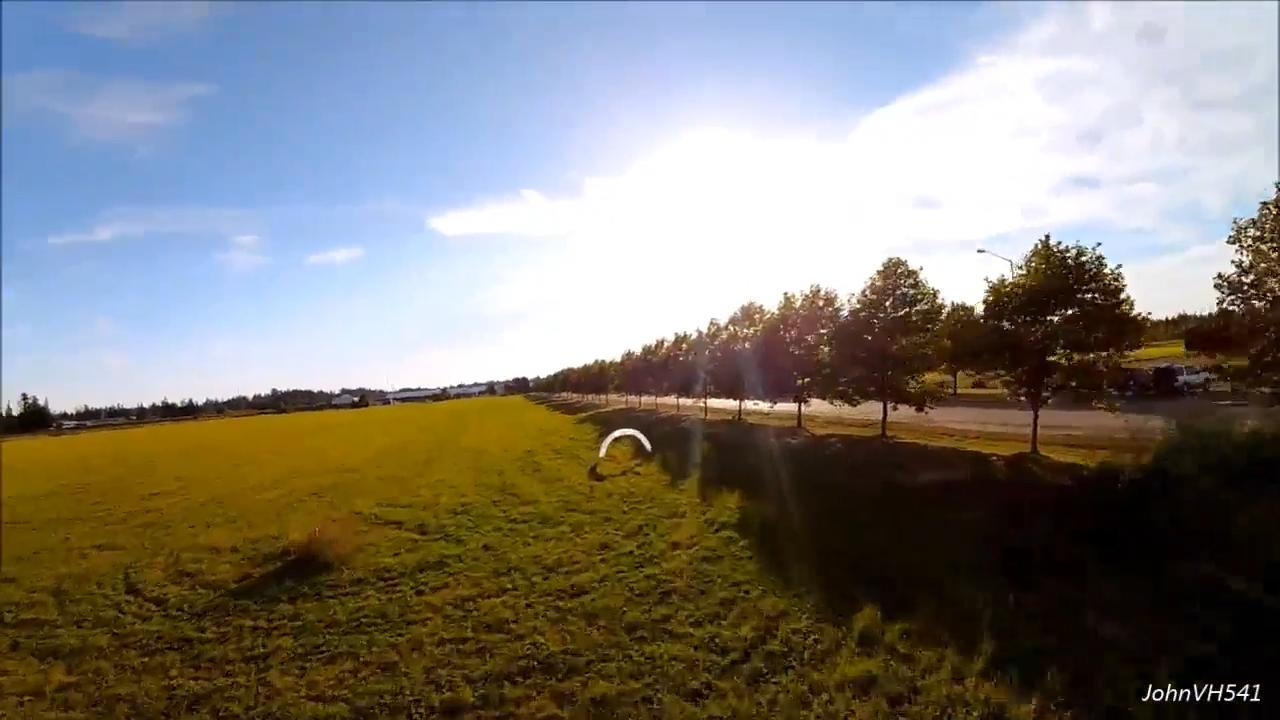gate: (598, 427, 652, 459)
